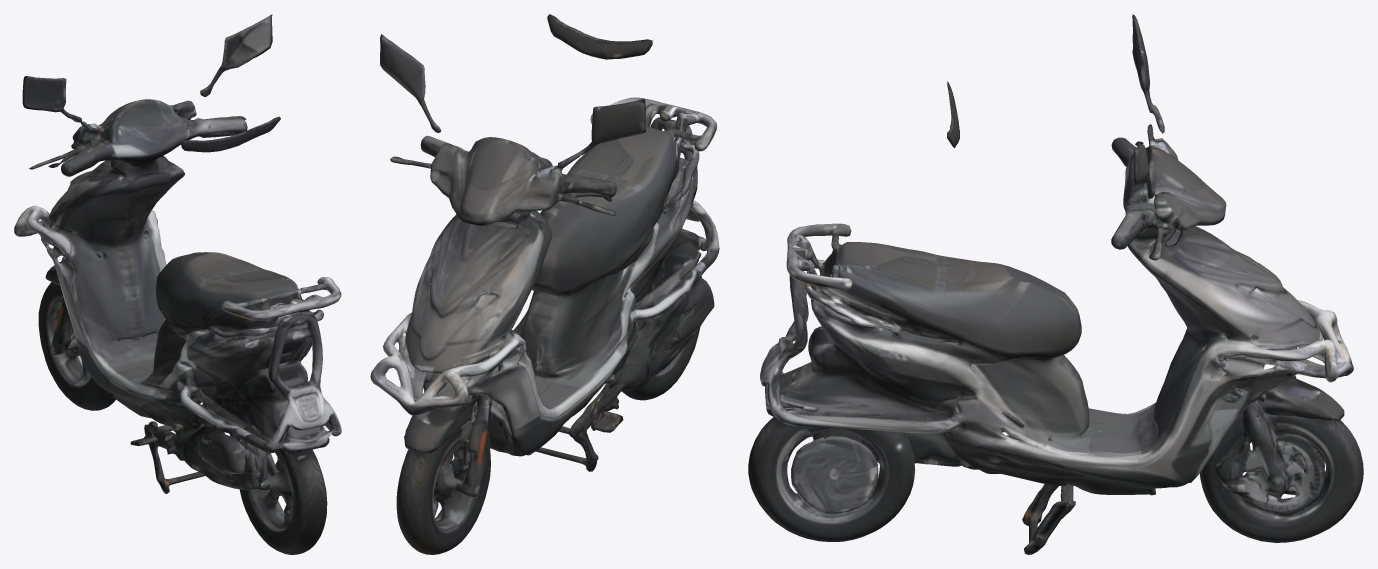
File: Komaki_Se_Sport_0905123138.fbx
The picture shows the model from 3 angles, left to right: view 1: azimuth 30°, elevation 25°; view 2: azimuth 150°, elevation 25°; view 3: azimuth 270°, elevation 25°; orthographic projection. The views are drawn at different scales.
Visible parts, largest first — view 1: Mesh_0; view 2: Mesh_0; view 3: Mesh_0.
Boxes of the visible parts, bbox=[...] form: Mesh_0: bbox=[14, 14, 341, 554]; Mesh_0: bbox=[370, 14, 719, 554]; Mesh_0: bbox=[748, 14, 1363, 554].
Bounding box in the file's own units: 106 × 166 × 200.
Materials: 1 (1 with a texture image).
